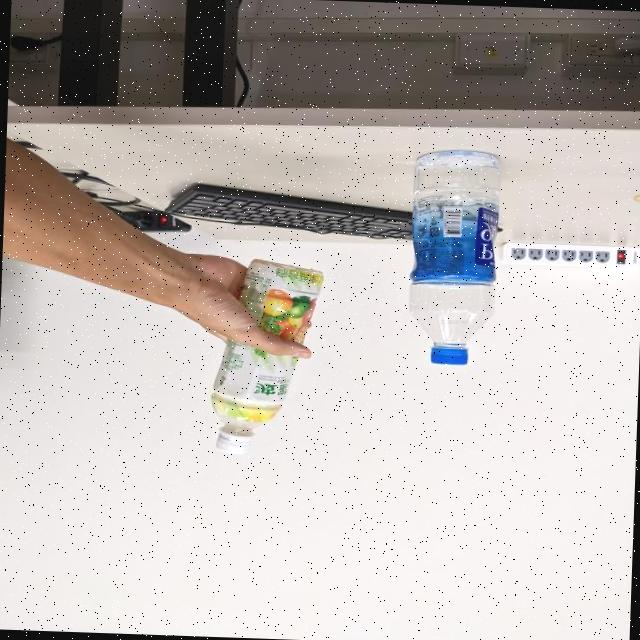bottle: (196, 258, 338, 463), (394, 146, 516, 377)
cap: (420, 337, 475, 369), (216, 427, 258, 458)
label: (210, 260, 322, 397), (407, 190, 503, 289)
